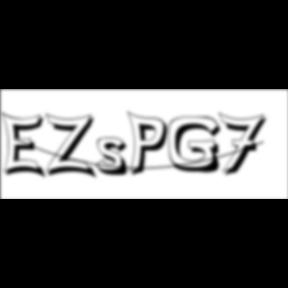7: (217, 111, 272, 179)
E: (1, 110, 50, 182)
G: (168, 116, 228, 176)
P: (128, 110, 174, 180)
Z: (46, 112, 100, 181)
s: (97, 137, 136, 179)
